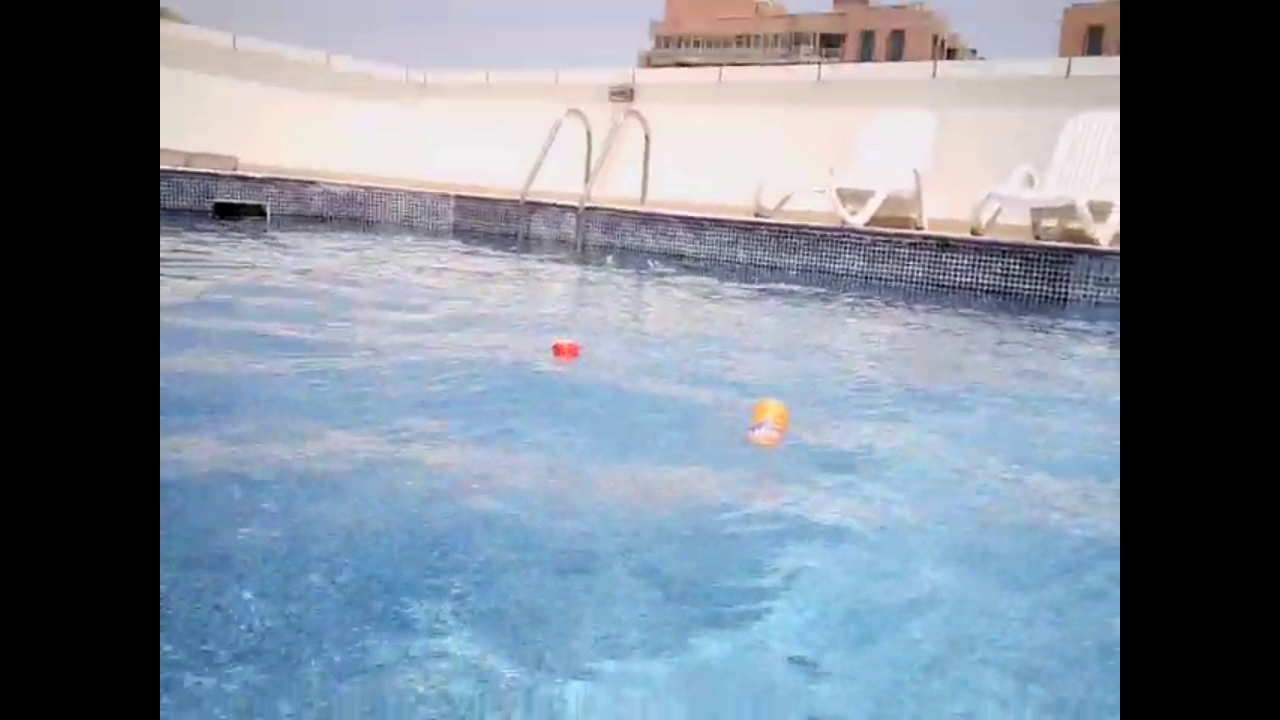debris: (737, 394, 793, 456), (547, 338, 582, 379), (594, 252, 615, 267), (642, 255, 662, 270)
